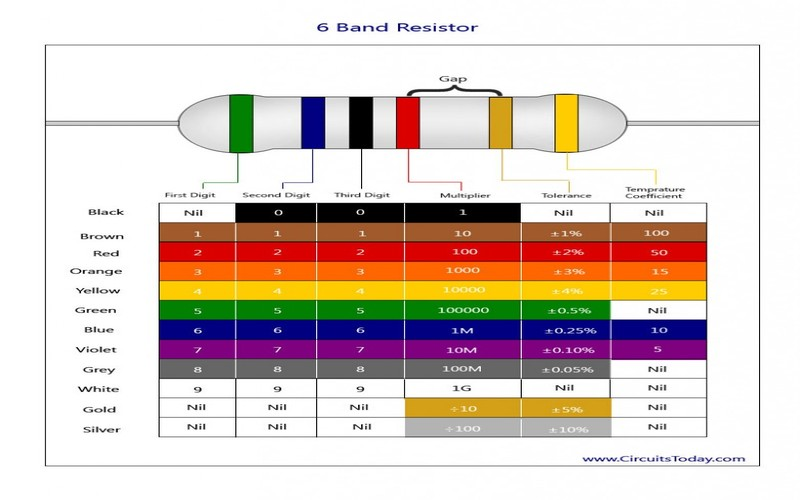Resistor: (147, 71, 640, 171)
